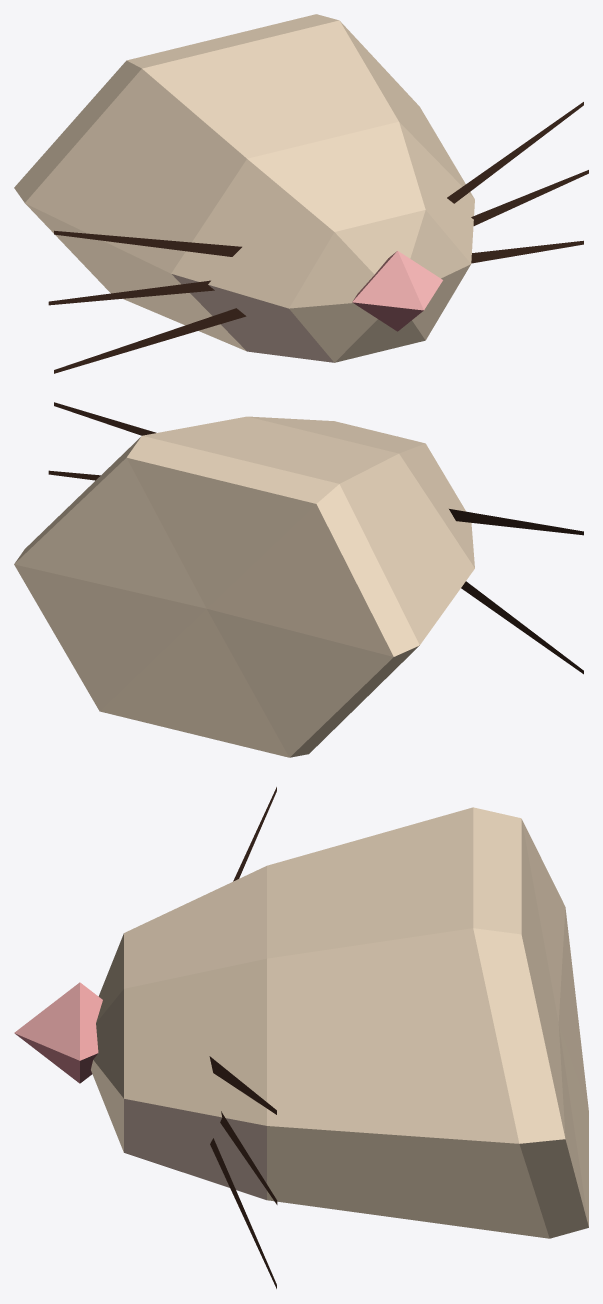
File: snout_mouse.glb
3 views of the same model, one above another, from view 1: azimuth 30°, elevation 25°; view 2: azimuth 150°, elevation 25°; view 3: azimuth 270°, elevation 25° (orthographic). The views are drawn at different scales.
Visible parts, largest first — view 1: Snout; view 2: Snout; view 3: Snout.
Boxes of the visible parts, x1,y1,x2,y2 form: Snout: (14, 14, 588, 373); Snout: (14, 402, 583, 757); Snout: (14, 787, 588, 1288).
Size of the model in its own units: 0.1422 by 0.0624 by 0.1046.
Materials: 1 (1 with a texture image).
